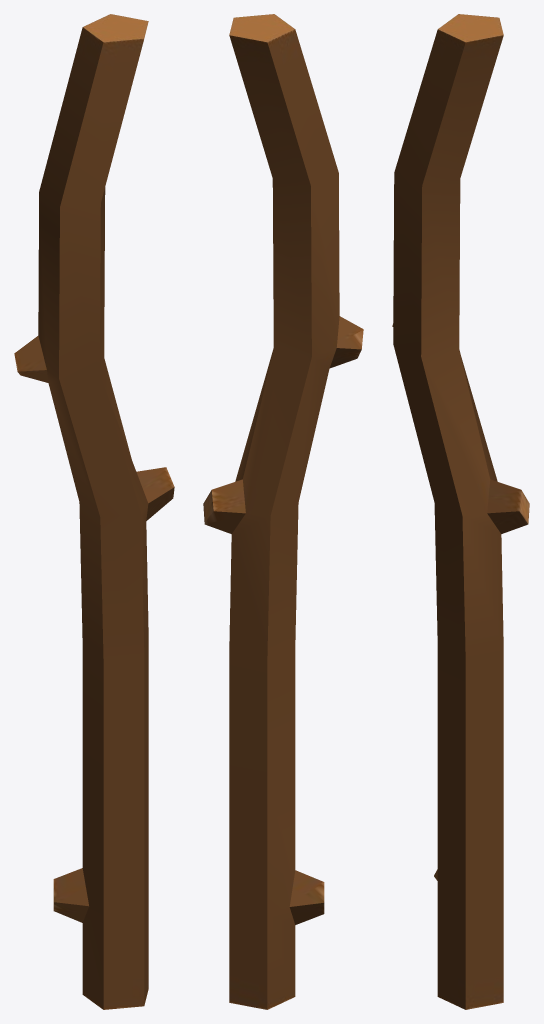
The model's file is branch.glb.
3 renders of one model, left to right at view 1: azimuth 30°, elevation 25°; view 2: azimuth 210°, elevation 25°; view 3: azimuth 330°, elevation 25°, orthographic.
Visible parts, largest first — view 1: branch_03; view 2: branch_03; view 3: branch_03.
Boxes of the visible parts, bbox=[...] form: branch_03: bbox=[14, 14, 174, 1009]; branch_03: bbox=[203, 14, 363, 1009]; branch_03: bbox=[392, 14, 529, 1009].
Size of the model in its own units: 0.6619 by 4.19 by 0.3049.
1 material, 1 textured.
